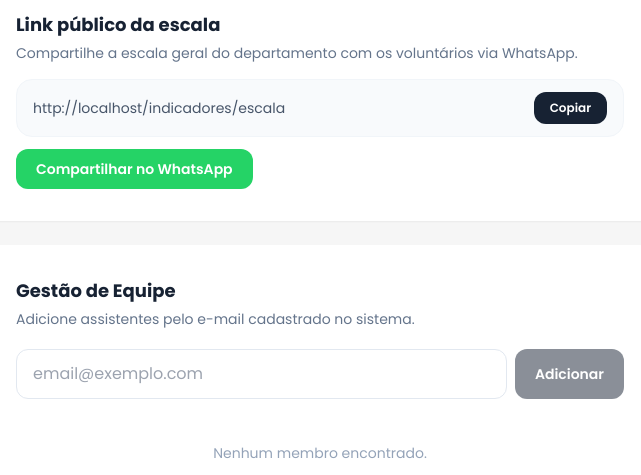
Test: Configuracoes › copies the public scale link to clipboard
The image size is (641, 475).
Click the button "Copiar": [570, 108] box [534,92,607,124]
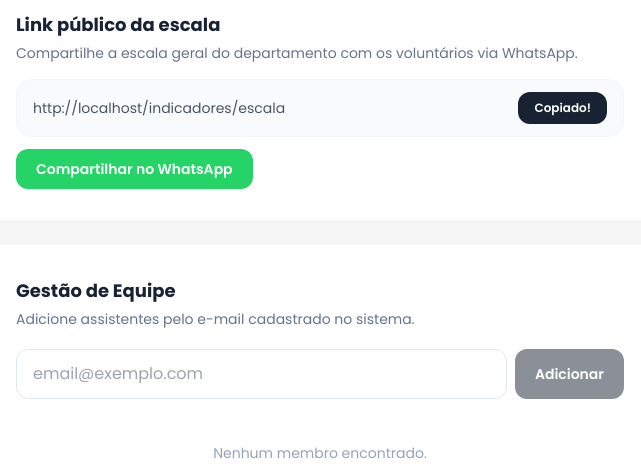
Expected: the button "Copiado!" is shown, [518,92,607,124]
